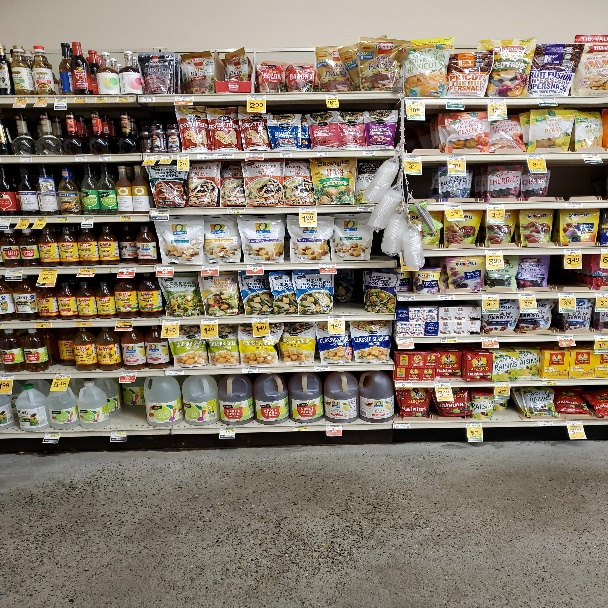All PRICE TAGS: (403, 154, 421, 162), (405, 98, 425, 105), (446, 154, 465, 161), (487, 98, 506, 105), (247, 93, 266, 100), (485, 249, 503, 256), (175, 95, 193, 102), (320, 261, 337, 268), (240, 367, 259, 373), (357, 205, 373, 212), (582, 153, 600, 159), (565, 202, 583, 208), (563, 248, 581, 254), (557, 292, 575, 298), (444, 204, 462, 210), (5, 269, 23, 275), (40, 269, 58, 275), (227, 207, 245, 213), (201, 264, 219, 270), (139, 95, 154, 102), (518, 293, 535, 299), (481, 336, 498, 342), (482, 294, 499, 300), (487, 203, 504, 209), (35, 322, 52, 328), (119, 266, 136, 272), (247, 152, 264, 158), (160, 153, 174, 160), (315, 364, 329, 371), (558, 335, 574, 341), (441, 336, 457, 342), (541, 380, 557, 386), (395, 423, 411, 429), (110, 430, 126, 436), (44, 432, 60, 438), (120, 371, 136, 377), (324, 93, 340, 99), (152, 210, 168, 216), (247, 264, 263, 270), (163, 318, 179, 324), (201, 317, 217, 323), (253, 316, 269, 322), (328, 315, 344, 321), (220, 427, 236, 433), (326, 424, 342, 430), (78, 268, 97, 273), (220, 152, 233, 159), (537, 98, 555, 103), (526, 154, 544, 159), (397, 337, 412, 343), (117, 320, 132, 326), (278, 151, 293, 157), (301, 206, 316, 212), (157, 265, 172, 271), (293, 425, 308, 431), (395, 382, 412, 387), (465, 422, 482, 427), (438, 295, 455, 300), (399, 295, 416, 300), (446, 99, 463, 104), (167, 370, 184, 375), (594, 292, 608, 298), (315, 151, 329, 157), (494, 381, 510, 386), (435, 382, 451, 387), (566, 421, 582, 426), (55, 373, 71, 378), (0, 374, 13, 380), (94, 97, 107, 103), (54, 97, 67, 103), (14, 97, 27, 103), (177, 154, 190, 160), (538, 421, 553, 426), (198, 154, 213, 159), (120, 216, 132, 222), (82, 216, 94, 222), (36, 97, 48, 103), (75, 155, 87, 161), (99, 155, 111, 161), (145, 154, 157, 160), (594, 335, 608, 340), (362, 151, 376, 156), (75, 322, 92, 326), (19, 217, 30, 223), (20, 156, 31, 162), (0, 218, 10, 224), (117, 97, 129, 102), (74, 97, 86, 102), (57, 217, 68, 222), (36, 217, 47, 222), (600, 248, 608, 253)
